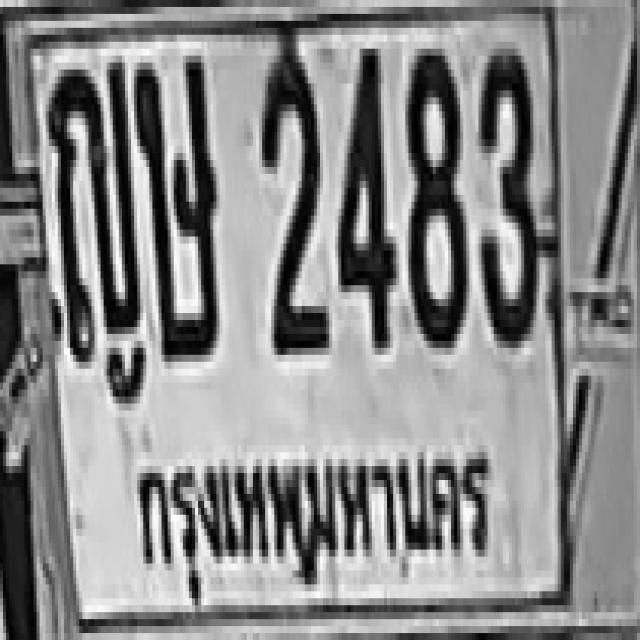2: (259, 32, 323, 344)
22YorYing: (46, 52, 137, 358)
3: (478, 42, 536, 341)
4: (336, 42, 392, 341)
48SorRueSi: (134, 48, 216, 354)
8: (406, 42, 464, 341)
Bangkok: (124, 432, 503, 610)
